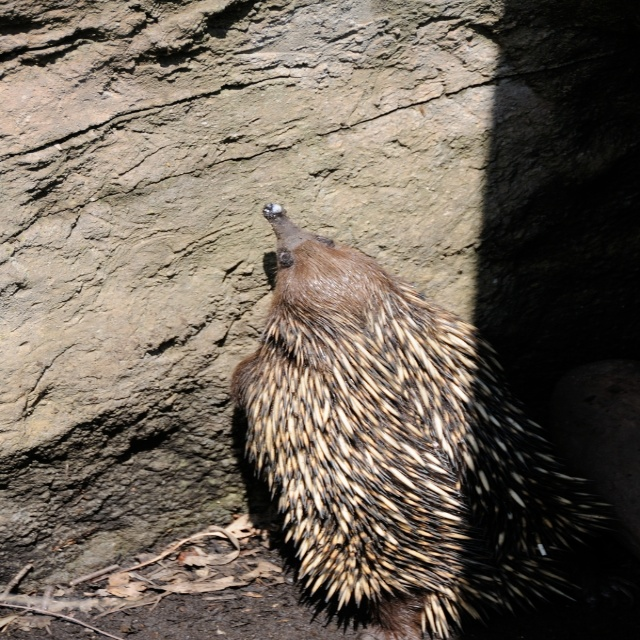Hedgehog: (229, 199, 636, 640)
